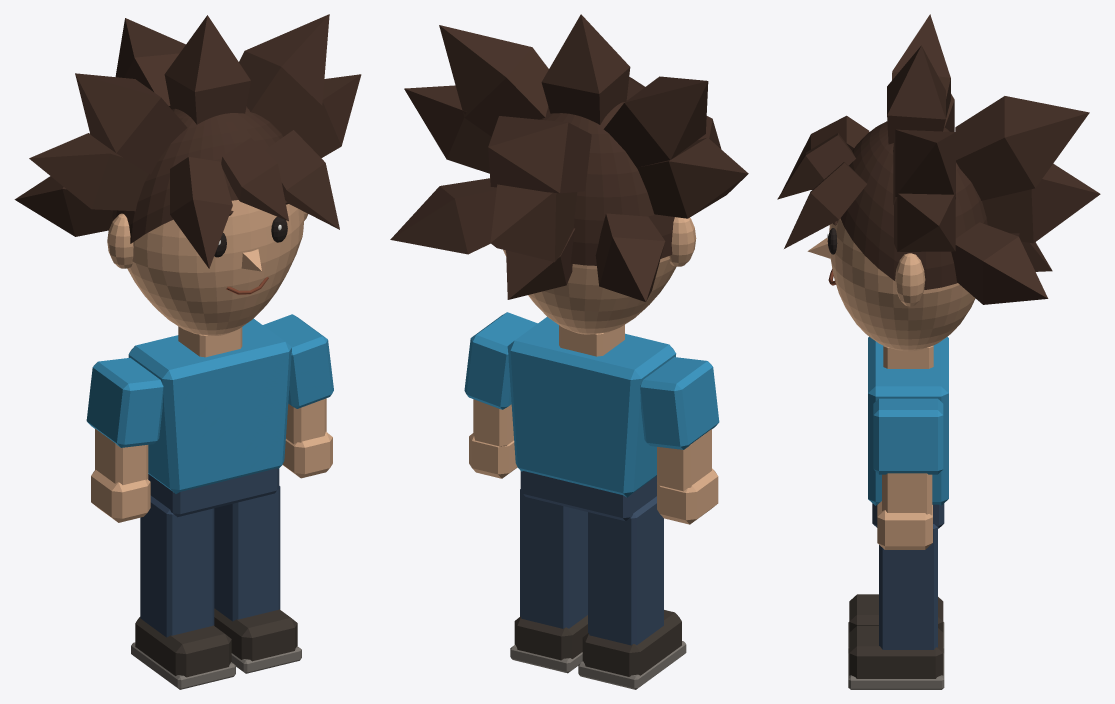
File: avatar-mii-kenney-cabelo-mechas-01.glb
The picture shows the model from 3 angles, left to right: view 1: azimuth 30°, elevation 25°; view 2: azimuth 150°, elevation 25°; view 3: azimuth 270°, elevation 25°; orthographic projection. The views are drawn at different scales.
Visible parts, largest first — view 1: Cabelo_mechas_01, Corpo_01, Cabeca_01, Perna_L, Perna_R, Manga, Sapato_L, Manga.001, Quadril, Sapato_R, Mao, Antebraco (+6 smaller); view 2: Cabelo_mechas_01, Corpo_01, Perna_L, Perna_R, Manga, Cabeca_01, Manga.001, Quadril, Sapato_L, Sapato_R, Antebraco, Mao (+6 smaller); view 3: Cabelo_mechas_01, Cabeca_01, Perna_R, Manga.001, Corpo_01, Sapato_R, Mao.001, Antebraco.001, Orelha_R, Sola.001, Sapato_L, Pescoco.
Part boxes in pixels (x1,y1,x2,y2): Cabelo_mechas_01: (14,14,361,268); Corpo_01: (128,318,291,493); Cabeca_01: (127,200,304,335); Perna_L: (140,495,214,637); Perna_R: (214,486,280,621); Manga: (86,358,163,447); Sapato_L: (135,617,231,677); Manga.001: (263,314,333,408); Quadril: (148,468,279,517); Sapato_R: (214,608,297,661); Mao: (91,470,150,522); Antebraco: (95,428,148,484); Cabelo_mechas_01: (390,14,748,301); Corpo_01: (507,317,676,497); Perna_L: (588,496,663,645); Perna_R: (520,489,587,628); Manga: (640,357,719,449); Cabeca_01: (503,249,676,334); Manga.001: (464,312,537,409); Quadril: (520,471,656,521); Sapato_L: (582,610,681,676); Sapato_R: (514,615,587,660); Antebraco: (657,429,711,491); Mao: (657,468,718,524); Cabelo_mechas_01: (777,14,1100,304); Cabeca_01: (829,218,975,351); Perna_R: (879,524,937,649); Manga.001: (873,398,943,474); Corpo_01: (868,337,948,505); Sapato_R: (849,626,943,678); Mao.001: (877,501,932,549); Antebraco.001: (882,473,932,514); Orelha_R: (894,253,925,306); Sola.001: (848,653,944,689); Sapato_L: (849,594,943,632); Pescoco: (883,345,933,368).
Bounding box in the file's own units: 1.72 × 3.12 × 1.48.
